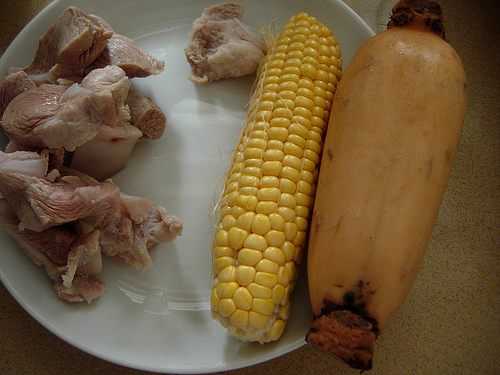corn: (210, 9, 341, 344)
